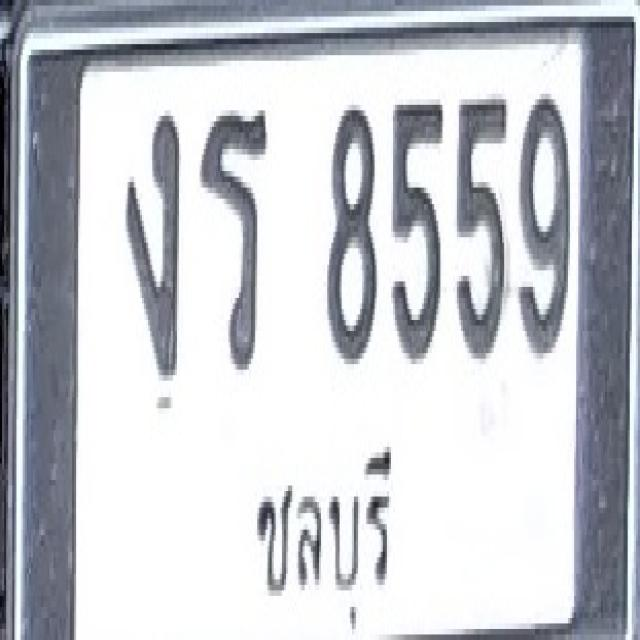5: (390, 94, 443, 358), (455, 88, 506, 359)
8: (325, 96, 377, 362)
9: (518, 88, 569, 353)
A07: (125, 108, 180, 384)
A35: (198, 99, 268, 370)
CBI: (247, 438, 399, 640)
